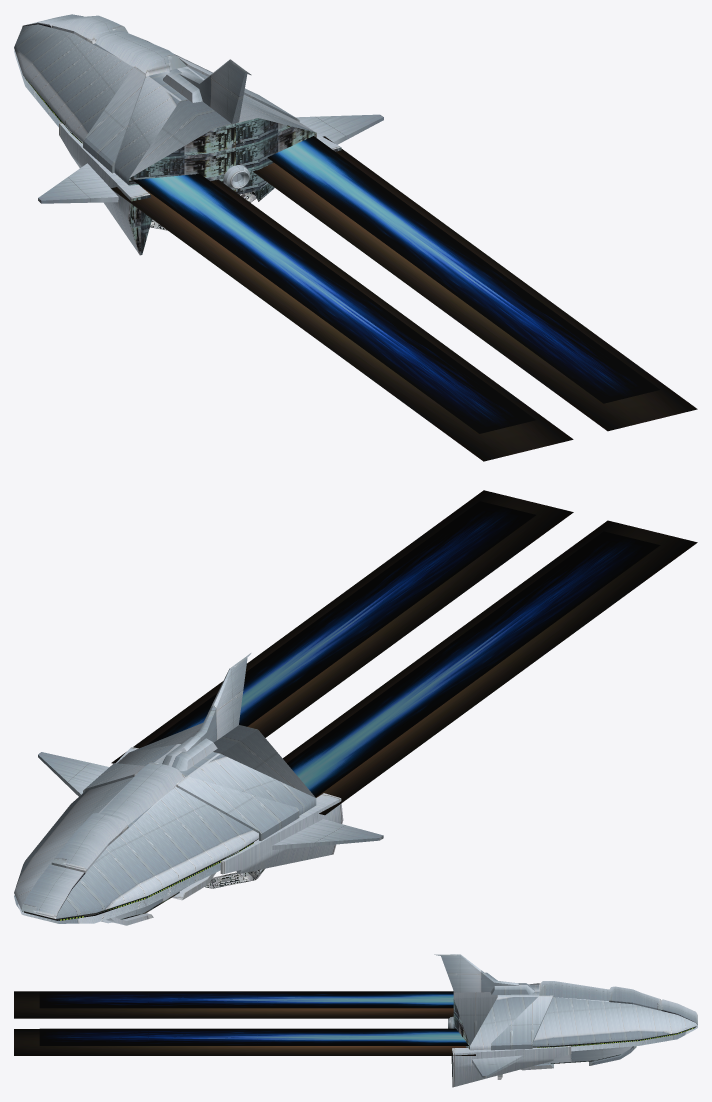
The model's file is nave1Race.obj.
3 renders of one model, top to bottom at view 1: azimuth 30°, elevation 25°; view 2: azimuth 150°, elevation 25°; view 3: azimuth 270°, elevation 25°, orthographic. The views are drawn at different scales.
Visible parts, largest first — view 1: MET_ROCKET02_A_LOD_gxmat106, MET_ROCKET02_A_LOD_gxmat110, MET_ROCKET02_A_LOD_gxmat122, MET_ROCKET02_A_LOD_gxmat140, MET_ROCKET02_A_LOD_gxmat116, MET_ROCKET02_A_LOD_gxmat119, MET_ROCKET02_A_LOD_gxmat141, MET_ROCKET02_A_LOD_gxmat135, MET_ROCKET02_A_LOD_gxmat113, MET_ROCKET02_A_LOD_gxmat118; view 2: MET_ROCKET02_A_LOD_gxmat106, MET_ROCKET02_A_LOD_gxmat110, MET_ROCKET02_A_LOD_gxmat122, MET_ROCKET02_A_LOD_gxmat116, MET_ROCKET02_A_LOD_gxmat119, MET_ROCKET02_A_LOD_gxmat113, MET_ROCKET02_A_LOD_gxmat135, MET_ROCKET02_A_LOD_gxmat126, MET_ROCKET02_A_LOD_gxmat141, MET_ROCKET02_A_LOD_gxmat144, MET_ROCKET02_A_LOD_gxmat129; view 3: MET_ROCKET02_A_LOD_gxmat106, MET_ROCKET02_A_LOD_gxmat110, MET_ROCKET02_A_LOD_gxmat126, MET_ROCKET02_A_LOD_gxmat116, MET_ROCKET02_A_LOD_gxmat113, MET_ROCKET02_A_LOD_gxmat119, MET_ROCKET02_A_LOD_gxmat135, MET_ROCKET02_A_LOD_gxmat141, MET_ROCKET02_A_LOD_gxmat133, MET_ROCKET02_A_LOD_gxmat144, MET_ROCKET02_A_LOD_gxmat129, MET_ROCKET02_A_LOD_gxmat140 (+2 smaller).
Part boxes in pixels (<box>): MET_ROCKET02_A_LOD_gxmat106: <box>133,136,660,433</box>; MET_ROCKET02_A_LOD_gxmat110: <box>111,136,697,461</box>; MET_ROCKET02_A_LOD_gxmat122: <box>14,24,179,185</box>; MET_ROCKET02_A_LOD_gxmat140: <box>129,118,316,194</box>; MET_ROCKET02_A_LOD_gxmat116: <box>38,114,383,254</box>; MET_ROCKET02_A_LOD_gxmat119: <box>51,15,251,189</box>; MET_ROCKET02_A_LOD_gxmat141: <box>129,99,315,177</box>; MET_ROCKET02_A_LOD_gxmat135: <box>83,57,299,173</box>; MET_ROCKET02_A_LOD_gxmat113: <box>14,50,267,188</box>; MET_ROCKET02_A_LOD_gxmat118: <box>129,147,341,255</box>; MET_ROCKET02_A_LOD_gxmat106: <box>145,501,660,797</box>; MET_ROCKET02_A_LOD_gxmat110: <box>111,490,697,815</box>; MET_ROCKET02_A_LOD_gxmat122: <box>56,754,316,918</box>; MET_ROCKET02_A_LOD_gxmat116: <box>38,747,383,874</box>; MET_ROCKET02_A_LOD_gxmat119: <box>51,653,251,872</box>; MET_ROCKET02_A_LOD_gxmat113: <box>14,656,247,923</box>; MET_ROCKET02_A_LOD_gxmat135: <box>83,763,299,840</box>; MET_ROCKET02_A_LOD_gxmat126: <box>14,744,178,910</box>; MET_ROCKET02_A_LOD_gxmat141: <box>130,723,315,797</box>; MET_ROCKET02_A_LOD_gxmat144: <box>21,864,84,918</box>; MET_ROCKET02_A_LOD_gxmat129: <box>106,873,215,925</box>; MET_ROCKET02_A_LOD_gxmat106: <box>39,991,468,1045</box>; MET_ROCKET02_A_LOD_gxmat110: <box>14,991,475,1055</box>; MET_ROCKET02_A_LOD_gxmat126: <box>470,997,697,1050</box>; MET_ROCKET02_A_LOD_gxmat116: <box>452,972,571,1087</box>; MET_ROCKET02_A_LOD_gxmat113: <box>440,954,697,1051</box>; MET_ROCKET02_A_LOD_gxmat119: <box>434,954,660,1028</box>; MET_ROCKET02_A_LOD_gxmat135: <box>491,983,553,1050</box>; MET_ROCKET02_A_LOD_gxmat141: <box>453,991,497,1045</box>; MET_ROCKET02_A_LOD_gxmat133: <box>542,1046,632,1063</box>; MET_ROCKET02_A_LOD_gxmat144: <box>661,999,697,1024</box>; MET_ROCKET02_A_LOD_gxmat129: <box>521,1046,636,1070</box>; MET_ROCKET02_A_LOD_gxmat140: <box>453,999,469,1049</box>.
Size of the model in its own units: 150 by 80.93 by 419.
